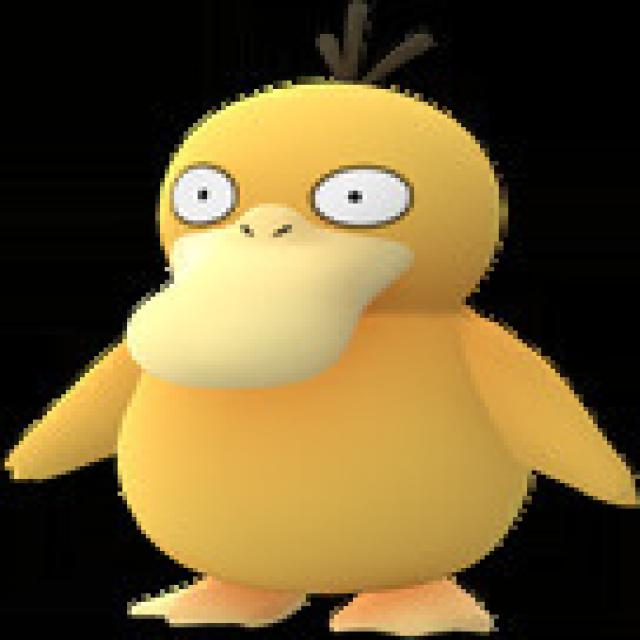Psyduck: (84, 74, 524, 628)
